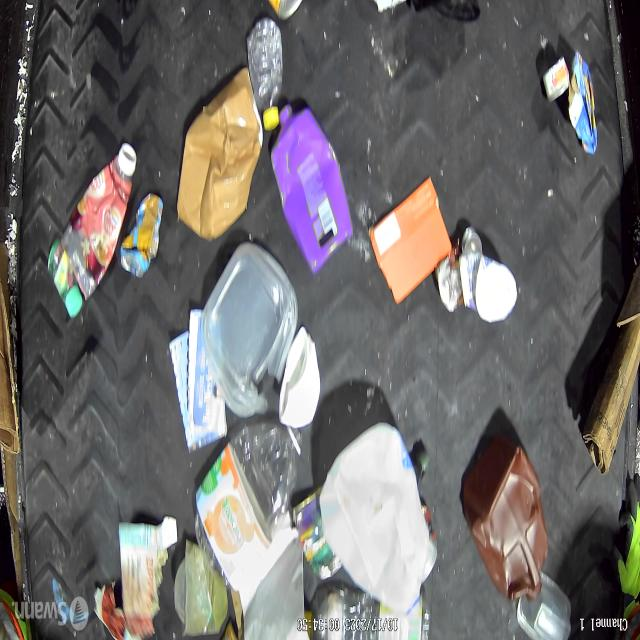can: (294, 492, 344, 583), (120, 192, 163, 278), (435, 245, 462, 314), (542, 55, 570, 103)
milk_jug: (318, 422, 431, 612)
non_white_jug: (461, 436, 548, 603), (270, 103, 354, 270)
plastic_bottle: (195, 423, 302, 590), (304, 585, 430, 640), (244, 16, 284, 133)
